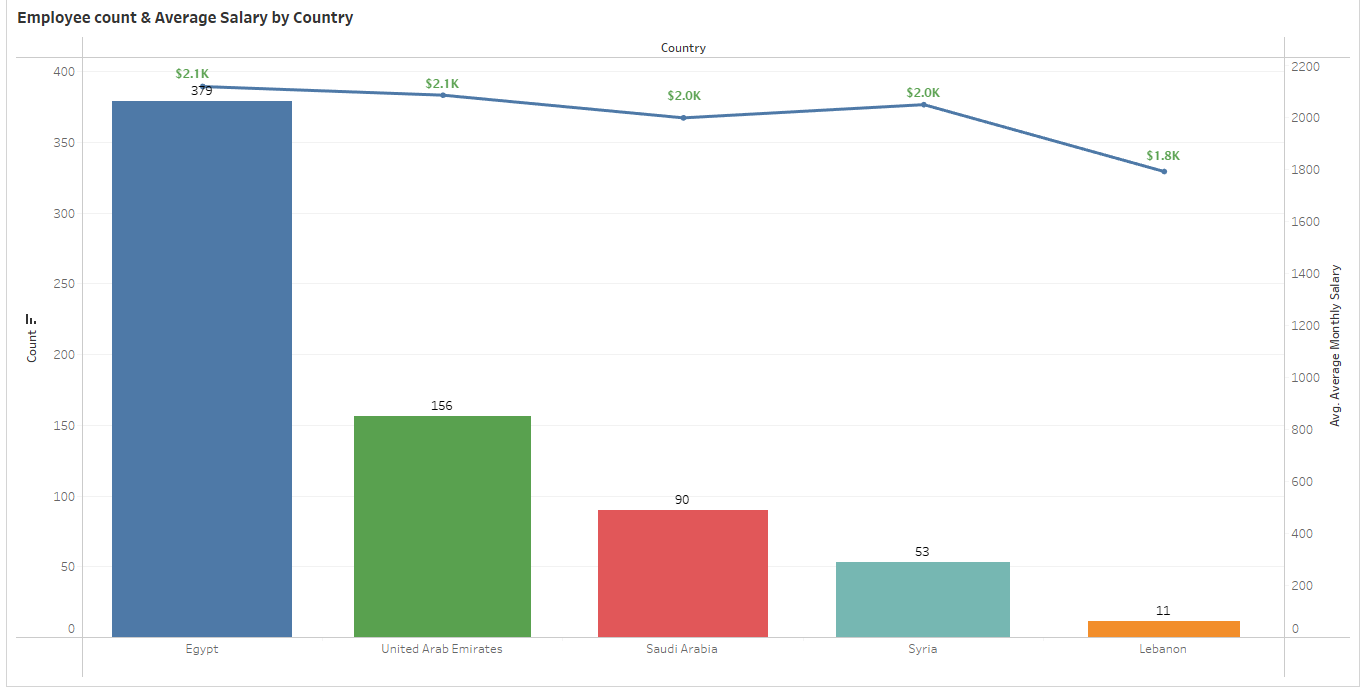

The page's visual inventory and layout, read from the dashboard file:
{"tool":"tableau","page":{"name":"Dashboard 5","canvas":[1000,1000],"units":"permille","ordinal":4},"visuals":[{"type":"worksheet","title":"Sheet 15","mark":"Automatic","rows":["department","country"],"cols":["Avg Job rate"],"box":[6.9,13.5,986.1,973]}]}

Visuals, with their boxes on the dashboard's canvas, which has no fixed pixel size, in thousandths of its width and height (x1, y1, x2, y2). These are canvas units, not pixel positions in the 1366x689 screenshot, which may show the page scaled, cropped or inside an application window:
"Sheet 15" worksheet: box=[7, 14, 993, 986]
